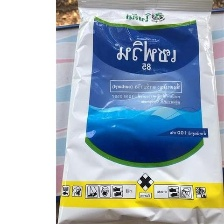insecticide: (55, 0, 224, 223)
